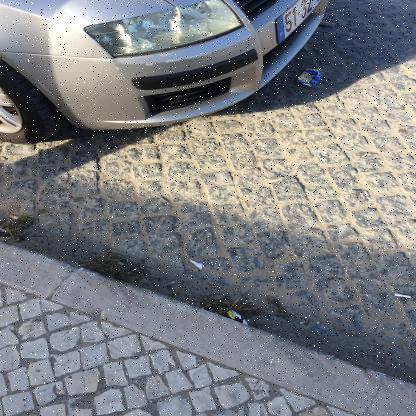metal: (298, 68, 324, 88)
